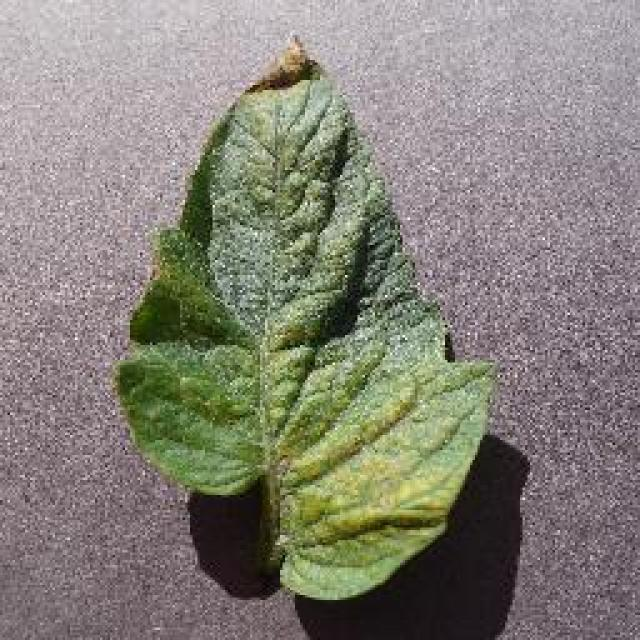Tomato___Spider_mites Two-spotted_spider_mite: (118, 40, 492, 598)
